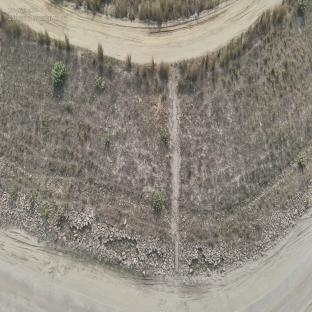rock_toe: (182, 150, 312, 285), (2, 187, 169, 274)
slope_drain: (168, 64, 182, 277)
